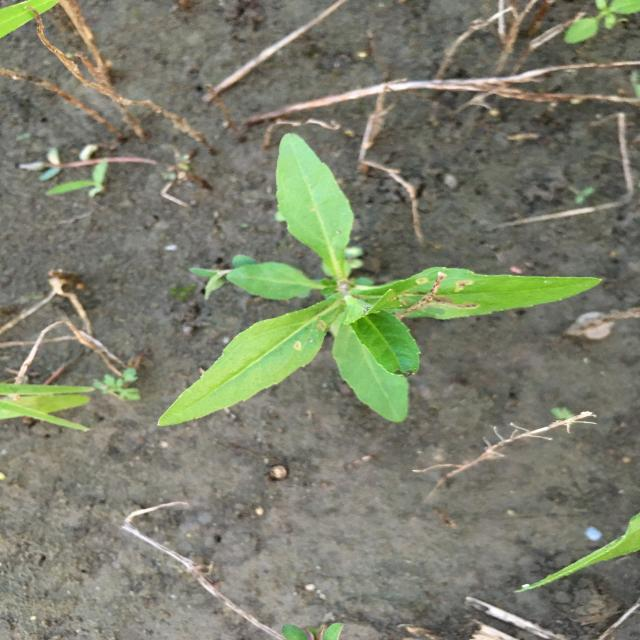Eclipta: (155, 131, 608, 429)
